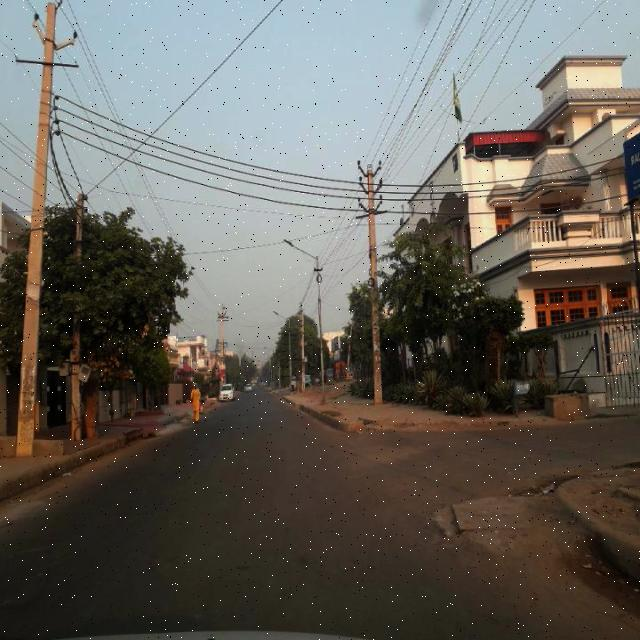D40: (428, 491, 462, 549)
